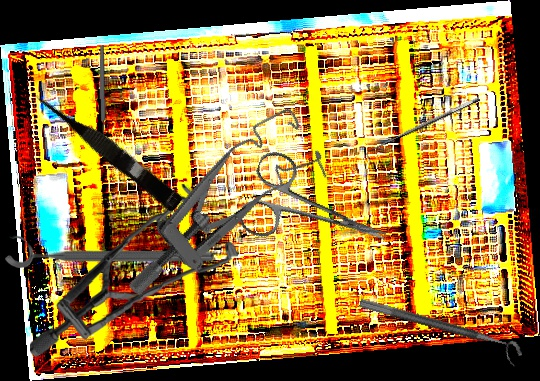Fixation Ring: (354, 297, 526, 368), (5, 234, 214, 268)
Hook Surgical: (362, 94, 485, 164)
Iris Scissors: (234, 147, 400, 280)
Micro Scissor: (29, 83, 187, 213)
Speculum: (89, 102, 342, 301), (21, 181, 245, 359)
Surgical Spoon: (98, 45, 107, 153)
